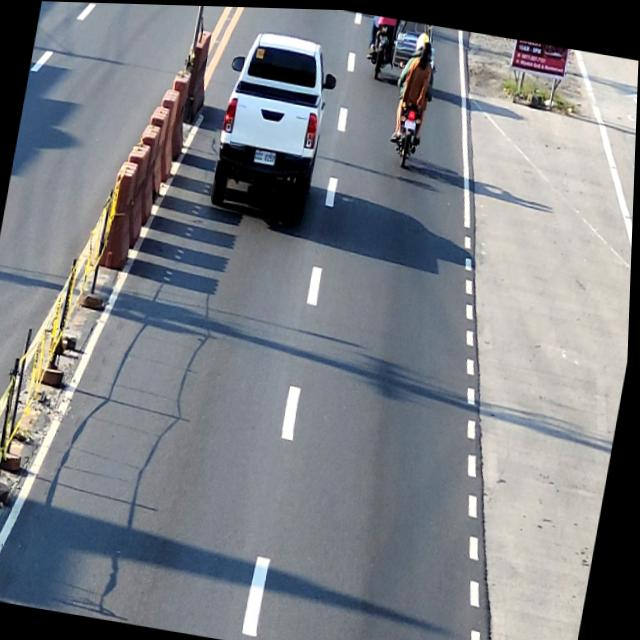Car: (207, 25, 343, 226)
License-Plate: (254, 148, 277, 165), (405, 116, 417, 128)
Motorcycle: (383, 57, 435, 168)
Tricycle: (369, 14, 436, 86)
